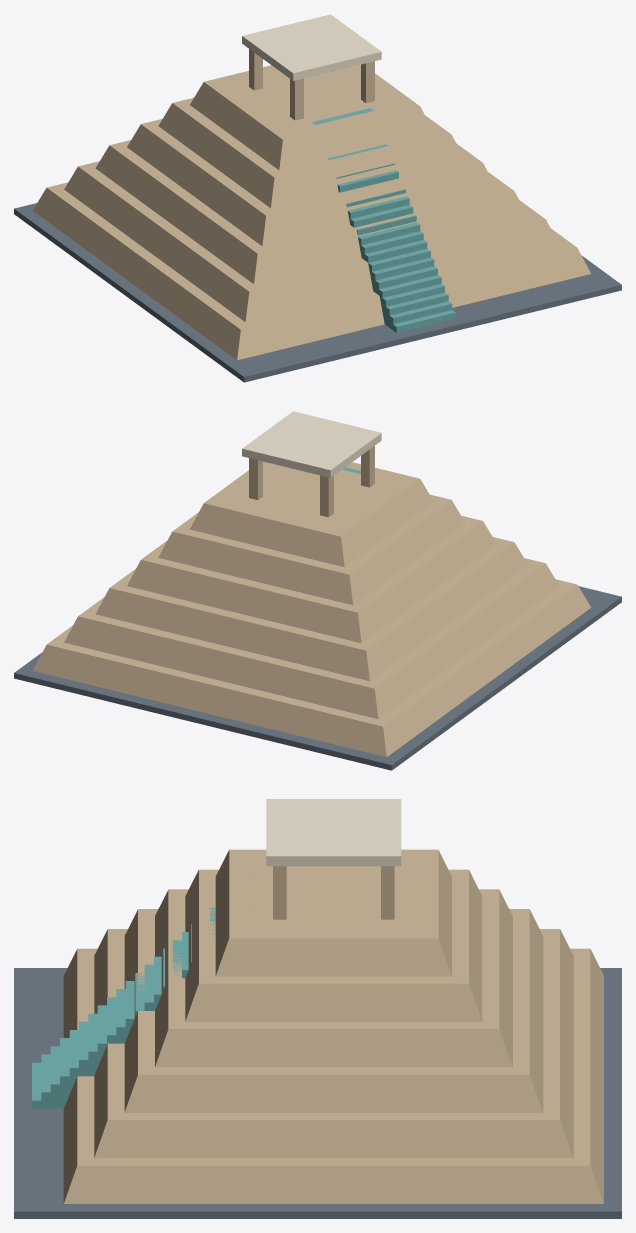
The model's file is sample.glb.
The picture shows the model from 3 angles, top to bottom: view 1: azimuth 30°, elevation 25°; view 2: azimuth 150°, elevation 25°; view 3: azimuth 270°, elevation 25°; orthographic projection. The views are drawn at different scales.
Visible parts, largest first — view 1: platform_1, platform_2, platform_6, platform_3, platform_4, DISPLAY_plinth, platform_5, summit_canopy, stair_04, stair_03, stair_07, stair_02 (+13 smaller); view 2: platform_1, platform_2, platform_3, platform_6, platform_4, platform_5, DISPLAY_plinth, summit_canopy, summit_post.001, summit_post.003, summit_post; view 3: platform_1, platform_2, platform_3, platform_6, platform_4, DISPLAY_plinth, platform_5, summit_canopy, summit_post.002, summit_post.003, stair_04, stair_03 (+1 smaller).
Boxes of the visible parts, bbox=[...] form: platform_1: bbox=[32, 182, 590, 360]; platform_2: bbox=[64, 161, 559, 322]; platform_6: bbox=[190, 64, 433, 170]; platform_3: bbox=[95, 140, 528, 284]; platform_4: bbox=[127, 119, 496, 246]; DISPLAY_plinth: bbox=[14, 203, 621, 382]; platform_5: bbox=[158, 97, 465, 208]; summit_canopy: bbox=[242, 14, 381, 80]; stair_04: bbox=[382, 283, 444, 324]; stair_03: bbox=[386, 292, 448, 327]; stair_07: bbox=[372, 257, 434, 292]; stair_02: bbox=[389, 301, 452, 329]; platform_1: bbox=[32, 579, 590, 757]; platform_2: bbox=[64, 558, 559, 719]; platform_3: bbox=[96, 537, 528, 681]; platform_6: bbox=[190, 461, 433, 567]; platform_4: bbox=[127, 516, 496, 643]; platform_5: bbox=[158, 494, 465, 605]; DISPLAY_plinth: bbox=[14, 586, 621, 770]; summit_canopy: bbox=[242, 411, 381, 477]; summit_post.001: bbox=[320, 475, 333, 517]; summit_post.003: bbox=[249, 458, 262, 499]; summit_post: bbox=[361, 446, 374, 487]; platform_1: bbox=[63, 948, 603, 1203]; platform_2: bbox=[94, 929, 573, 1158]; platform_3: bbox=[124, 909, 543, 1112]; platform_6: bbox=[215, 849, 451, 976]; platform_4: bbox=[155, 889, 512, 1067]; DISPLAY_plinth: bbox=[14, 968, 621, 1218]; platform_5: bbox=[185, 869, 482, 1021]; summit_canopy: bbox=[266, 799, 401, 866]; summit_post.002: bbox=[273, 866, 286, 919]; summit_post.003: bbox=[381, 866, 394, 919]; stair_04: bbox=[60, 1038, 69, 1108]; stair_03: bbox=[50, 1046, 60, 1108].
Size of the model in its own units: 12.8 by 6.61 by 13.51.
